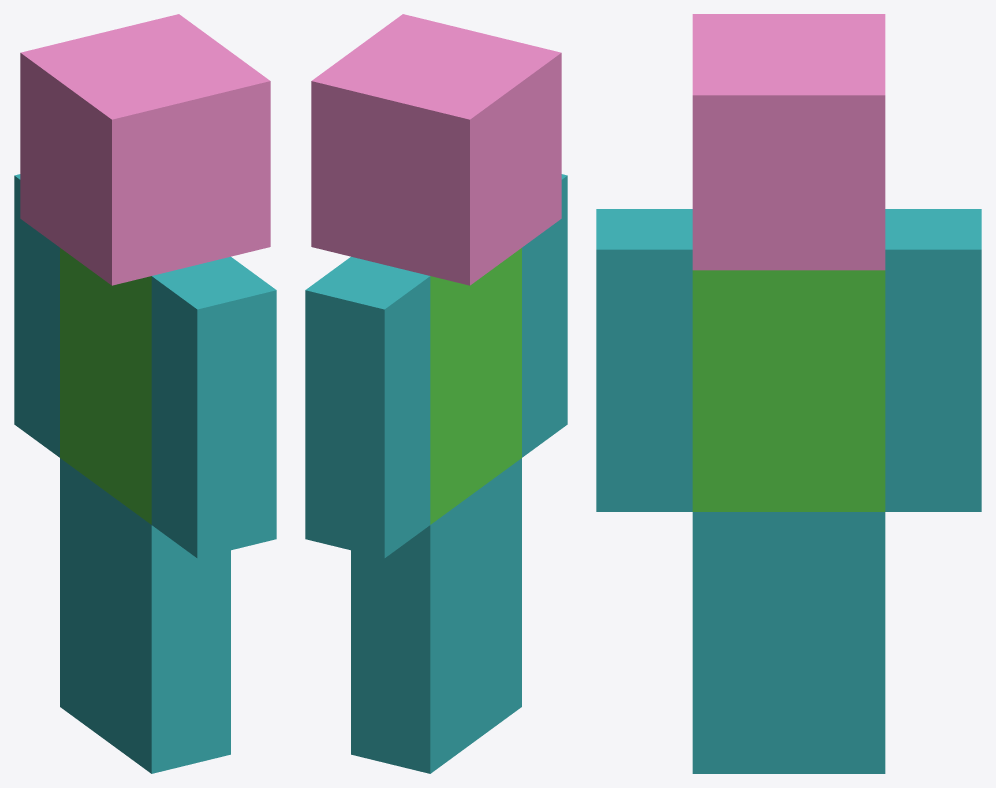
The model's file is RealRobot.fbx.
3 views of the same model, side by side, from view 1: azimuth 30°, elevation 25°; view 2: azimuth 150°, elevation 25°; view 3: azimuth 270°, elevation 25° (orthographic). The views are drawn at different scales.
Parts seen in each view (by area): view 1: Head, Body, Hand_Right_Top, Hand_Right_Bottom, Leg_Right_Bottom, Leg_Right_Top, Leg_Left_Bottom, Leg_Left_Top, Hand_Left_Bottom, Hand_Left_Top; view 2: Head, Body, Hand_Left_Top, Hand_Left_Bottom, Leg_Left_Bottom, Leg_Left_Top, Leg_Right_Bottom, Leg_Right_Top, Hand_Right_Bottom, Hand_Right_Top; view 3: Head, Body, Hand_Left_Top, Hand_Right_Top, Hand_Right_Bottom, Hand_Left_Bottom, Leg_Left_Bottom, Leg_Left_Top, Leg_Right_Top, Leg_Right_Bottom.
Part boxes in pixels (<box>): Head: <box>20,14,270,285</box>; Body: <box>60,248,151,524</box>; Hand_Right_Top: <box>151,256,276,433</box>; Hand_Right_Bottom: <box>151,401,276,558</box>; Leg_Right_Bottom: <box>106,616,230,773</box>; Leg_Right_Top: <box>106,492,230,649</box>; Leg_Left_Bottom: <box>60,582,105,740</box>; Leg_Left_Top: <box>60,458,105,615</box>; Hand_Left_Bottom: <box>14,300,59,457</box>; Hand_Left_Top: <box>14,174,59,332</box>; Head: <box>311,14,561,285</box>; Body: <box>430,248,521,524</box>; Hand_Left_Top: <box>305,256,430,433</box>; Hand_Left_Bottom: <box>305,401,430,558</box>; Leg_Left_Bottom: <box>351,616,475,773</box>; Leg_Left_Top: <box>351,492,475,649</box>; Leg_Right_Bottom: <box>476,582,521,740</box>; Leg_Right_Top: <box>476,458,521,615</box>; Hand_Right_Bottom: <box>522,300,567,457</box>; Hand_Right_Top: <box>522,174,567,332</box>; Head: <box>692,14,885,270</box>; Body: <box>692,270,885,511</box>; Hand_Left_Top: <box>885,209,981,380</box>; Hand_Right_Top: <box>596,209,692,380</box>; Hand_Right_Bottom: <box>596,381,692,511</box>; Hand_Left_Bottom: <box>885,381,981,511</box>; Leg_Left_Bottom: <box>789,643,885,773</box>; Leg_Left_Top: <box>789,512,885,642</box>; Leg_Right_Top: <box>692,512,788,642</box>; Leg_Right_Bottom: <box>692,643,788,773</box>.
Size of the model in its own units: 16 by 64 by 32.
